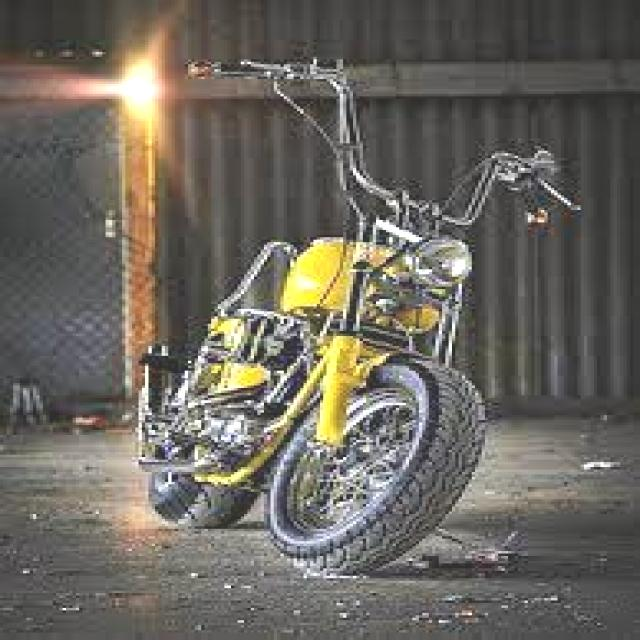MOTORCYCLE: (146, 227, 481, 573)
